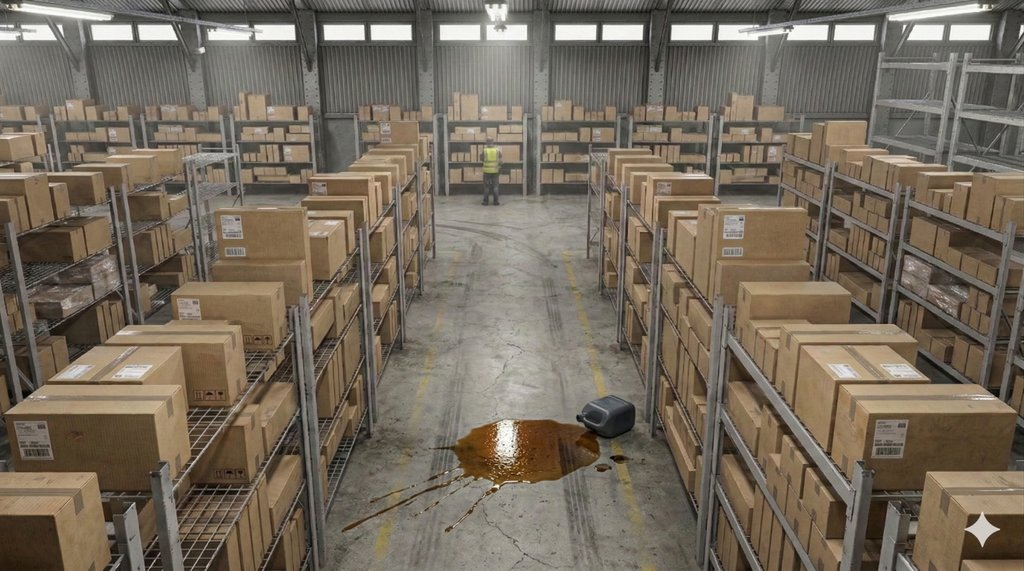empty_shelf: (876, 38, 1024, 148), (174, 475, 240, 559), (188, 135, 247, 212), (185, 367, 229, 437), (241, 314, 286, 378), (315, 387, 332, 441)
person: (452, 130, 527, 205)
safety_vest: (482, 147, 504, 177)
spill: (432, 352, 642, 531)
